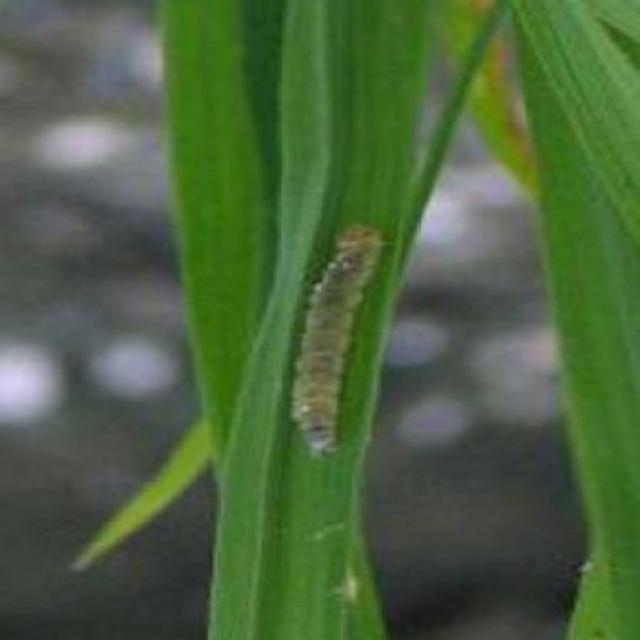leaf-folder: (278, 199, 392, 486)
